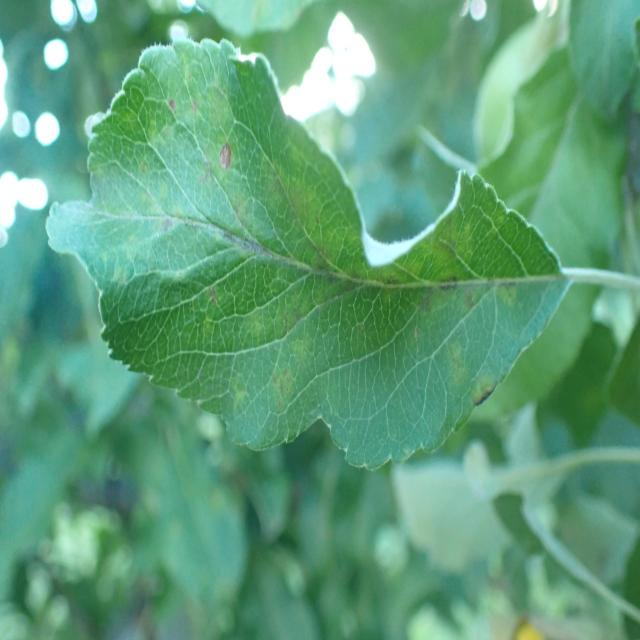scab: (98, 36, 515, 406)
